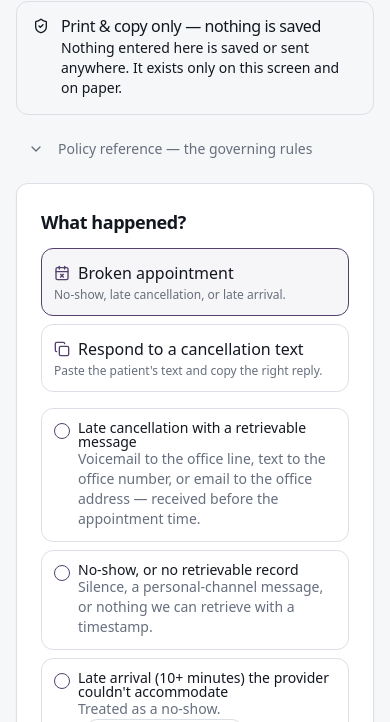
decision-first workspace › no calculator required: answering No directly is enough
The width and height of the screenshot is (390, 722).
Click the radio button named "No-show, or no retrievable record" next to "No-show, or no retrievable record": (62, 573) [54,565,70,581]
(page scrolled)
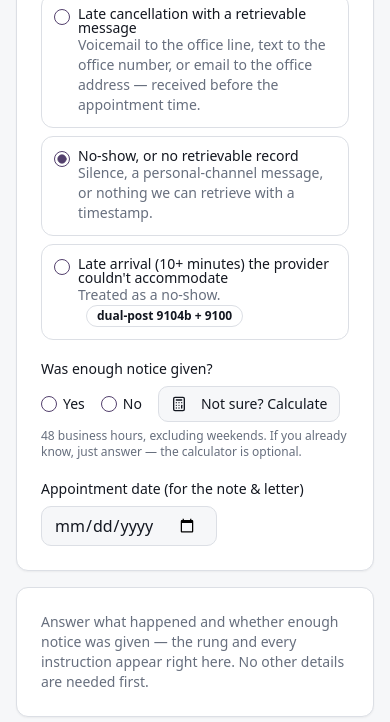
Click the 5th radio button: (109, 404) [101,396,117,412]
(page scrolled)
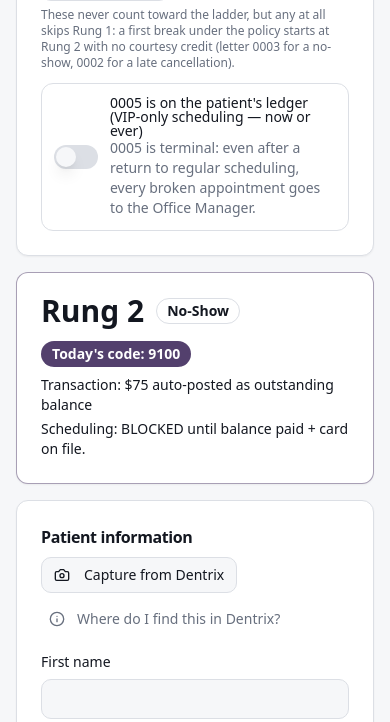
Expected: the text "Rung 2" is shown, [41,293,144,329]
